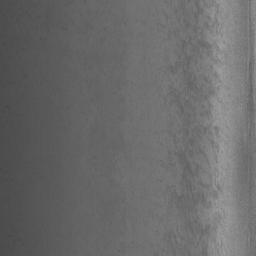Silk spot: (167, 0, 219, 217), (185, 216, 217, 256), (204, 15, 219, 34), (204, 0, 219, 14), (164, 232, 177, 247), (210, 184, 222, 198), (208, 138, 219, 152), (198, 182, 212, 190)
